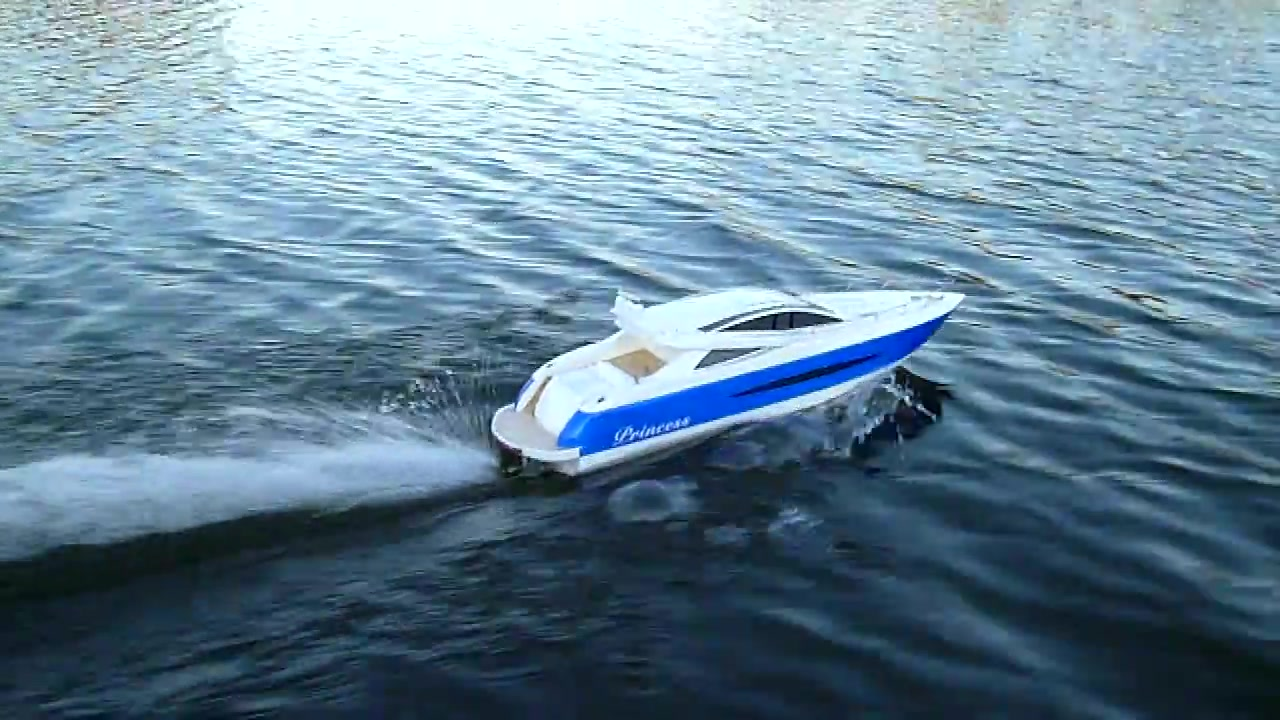boat: (491, 280, 969, 489)
